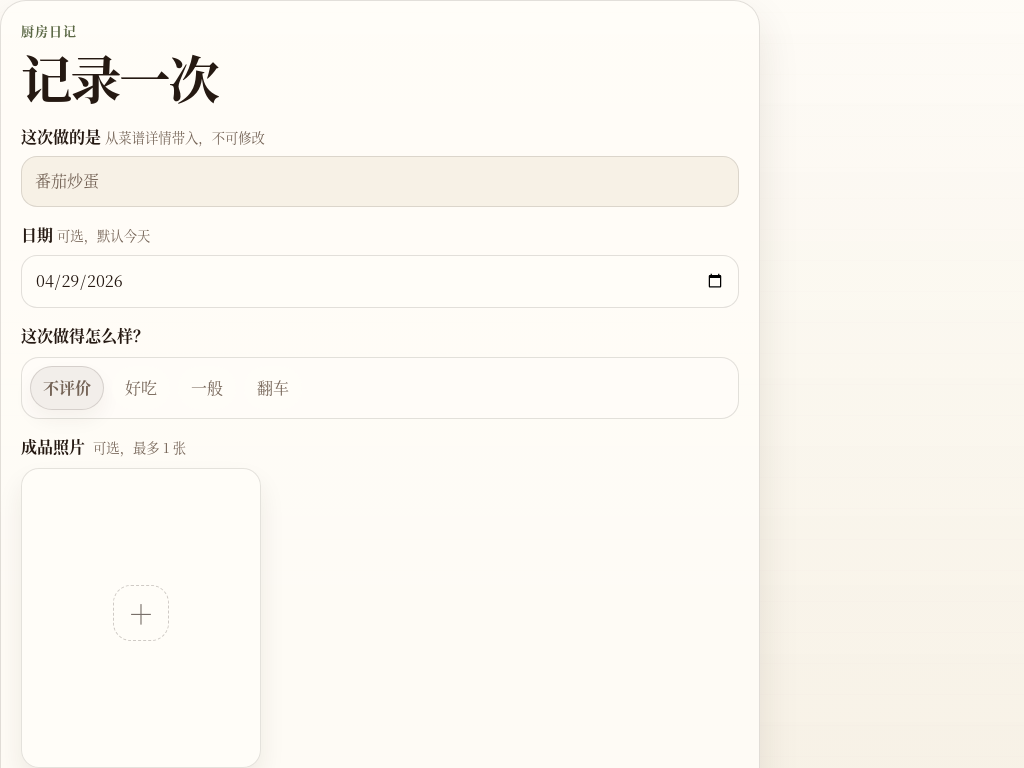
Test: NewCookingLogView › shows one-image cooking photo upload states
Click the button with test id "choose-image" at (141, 618), box [21, 468, 261, 767]
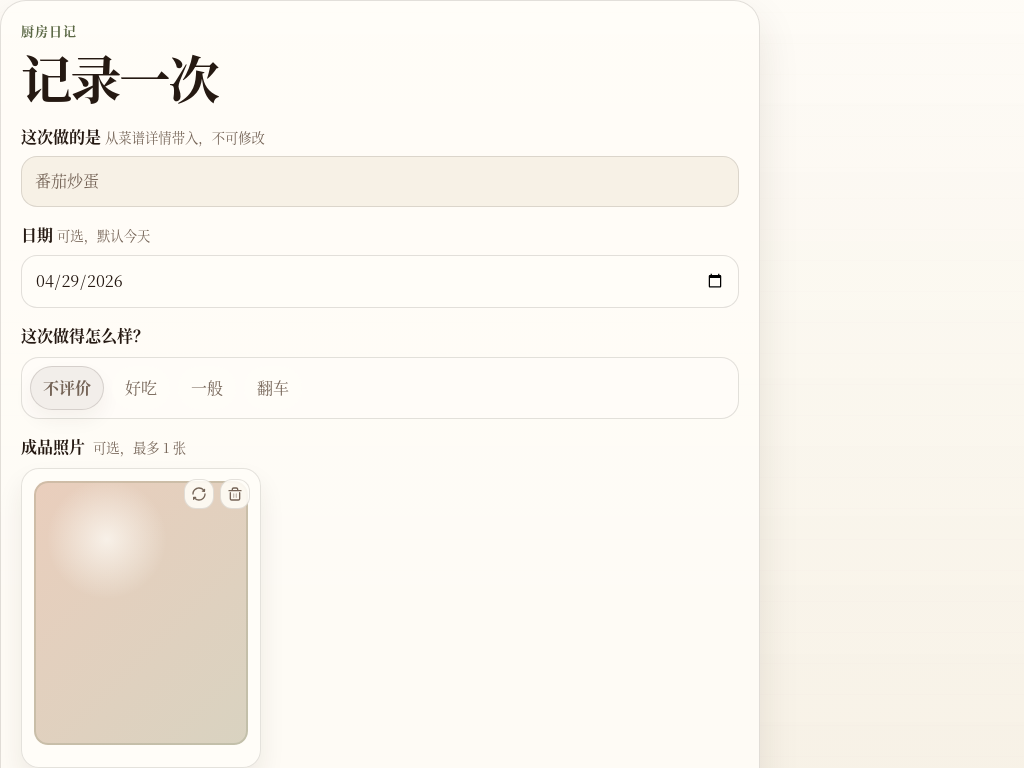
Click the button with test id "delete-image" at (235, 494), box [220, 479, 250, 509]
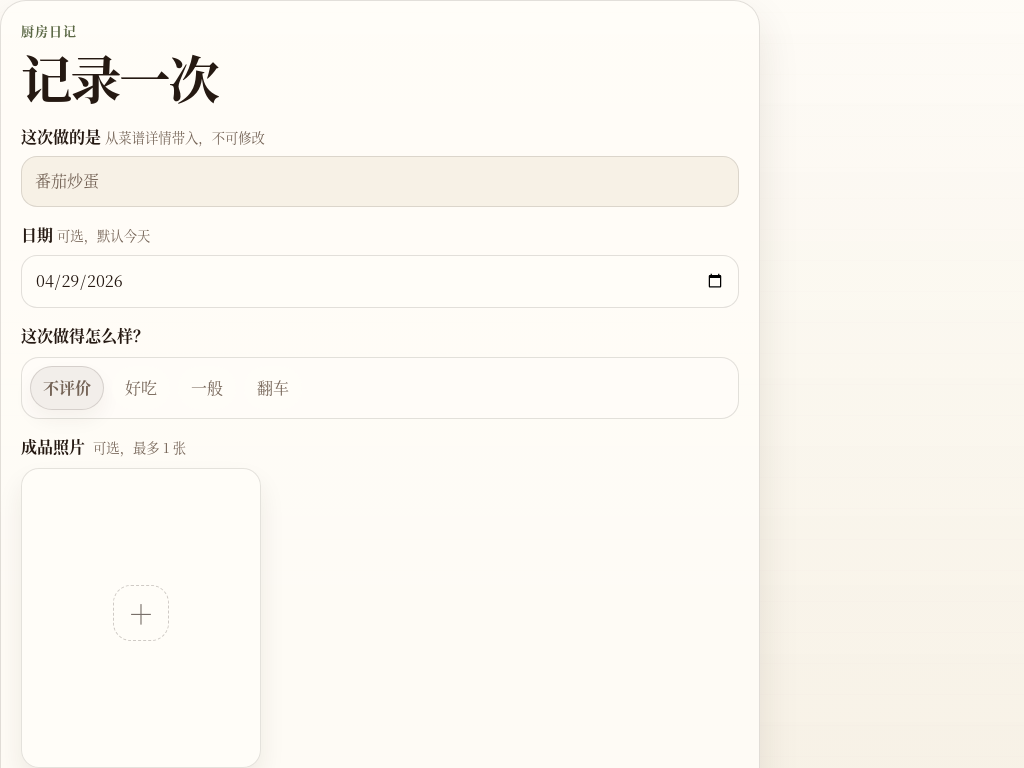
Expected: the button with test id "choose-image" is shown, [21, 468, 261, 767]
